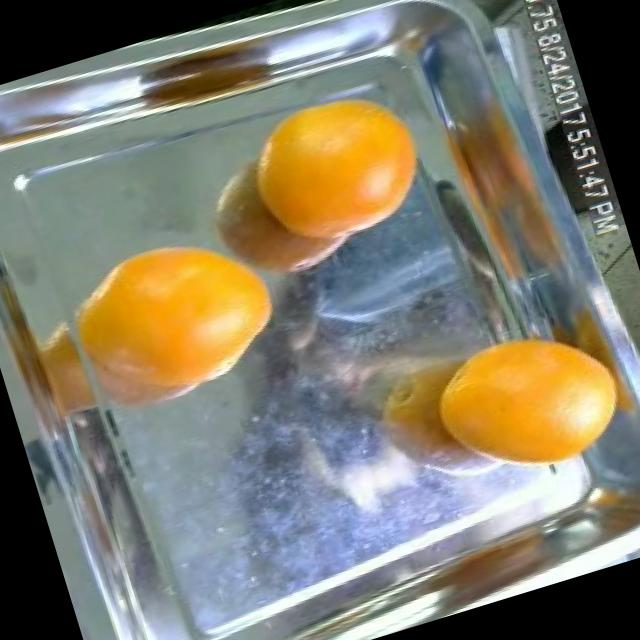Fruit: (209, 56, 462, 284), (398, 285, 640, 513), (73, 200, 314, 426)
